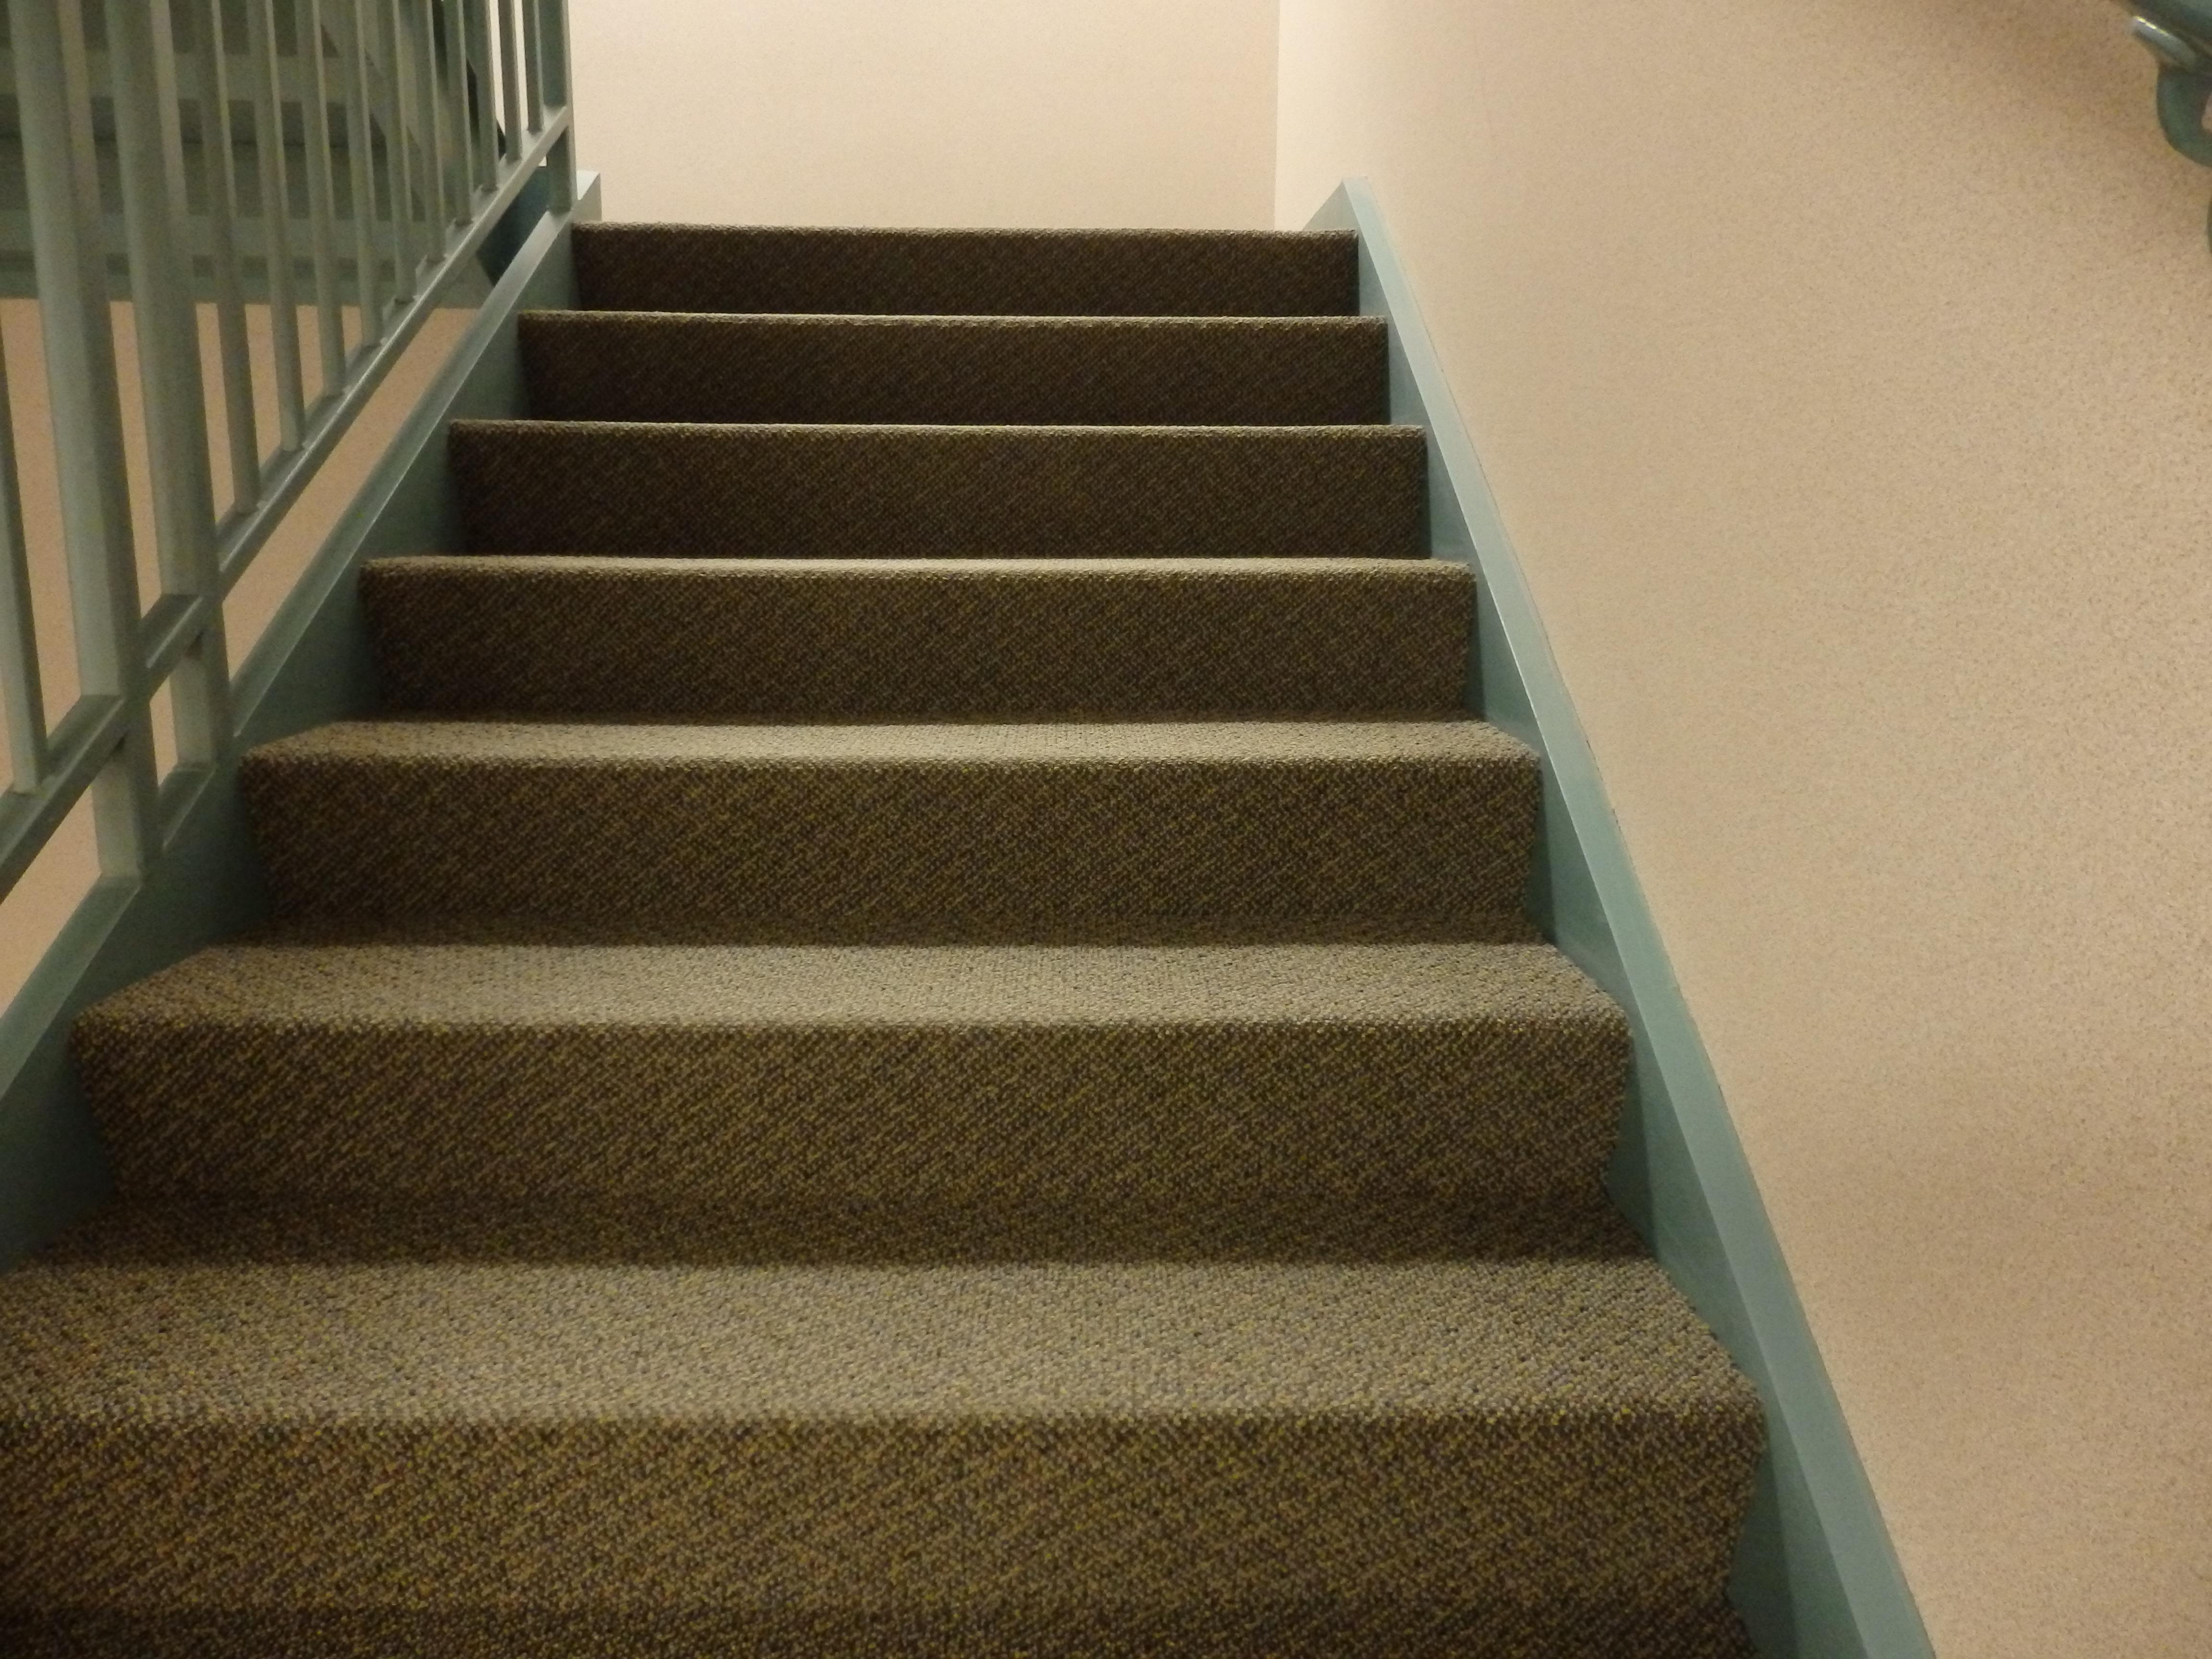stairs_up: (282, 89, 1642, 1624)
